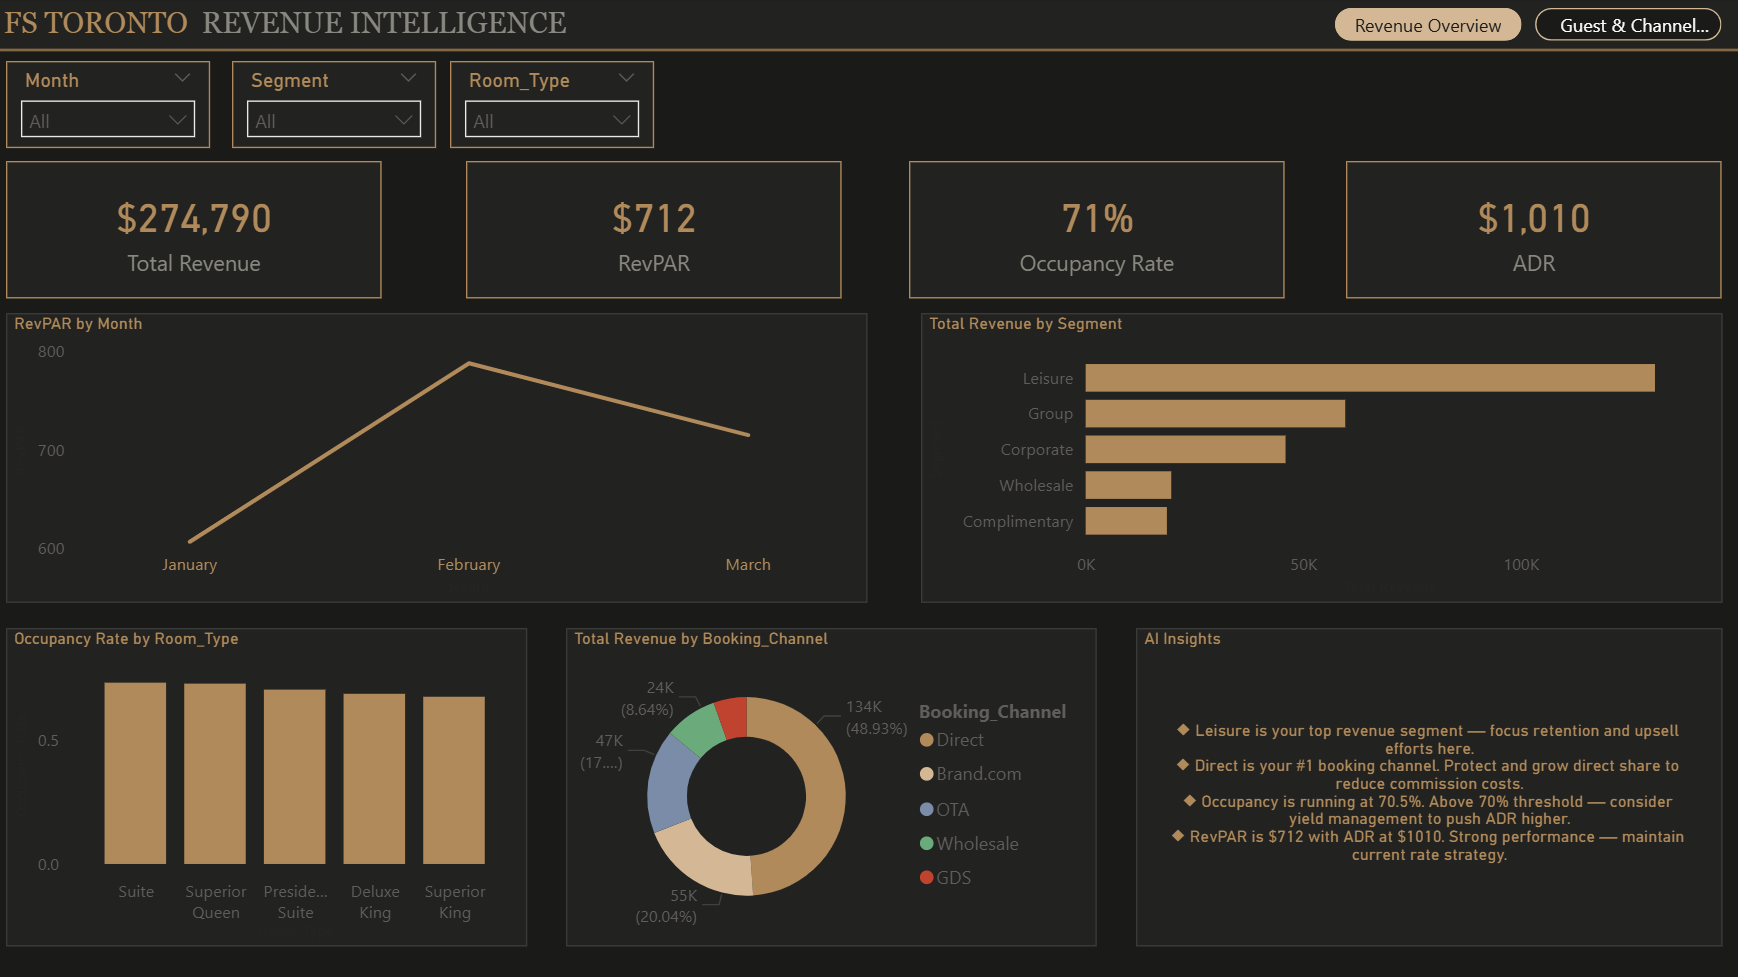

What the dashboard file says about the page in this screenshot:
{"tool":"powerbi","page":{"name":"Revenue Overview","canvas":[1280,720],"ordinal":0},"visuals":[{"type":"card","fields":{"Values":["HotelBookings.Total Revenue"]},"box":[6.6,119,276.3,100.7],"z":0},{"type":"card","fields":{"Values":["HotelBookings.ADR"]},"box":[991.2,119,276.3,100.7],"z":1000},{"type":"card","fields":{"Values":["HotelBookings.Occupancy Rate"]},"box":[670.1,119,276.3,100.7],"z":2000},{"type":"card","fields":{"Values":["HotelBookings.RevPAR"]},"box":[344.6,119,276.3,100.7],"z":3000},{"type":"lineChart","fields":{"Category":["HotelBookings.Check_In_Date.Variation.Date Hierarchy.Month"],"Y":["HotelBookings.RevPAR"]},"box":[6.6,230.7,633.4,213.1],"z":4000},{"type":"clusteredBarChart","fields":{"Category":["HotelBookings.Segment"],"Y":["HotelBookings.Total Revenue"]},"box":[678.9,230.7,588.6,213.1],"z":5000},{"type":"clusteredColumnChart","fields":{"Category":["HotelBookings.Room_Type"],"Y":["HotelBookings.Occupancy Rate"]},"box":[6.6,462.2,382.8,234.4],"z":6000},{"type":"donutChart","fields":{"Category":["HotelBookings.Booking_Channel"],"Y":["HotelBookings.Total Revenue"]},"box":[418.1,462.2,390.2,234.4],"z":7000},{"type":"slicer","fields":{"Values":["HotelBookings.Check_In_Date.Variation.Date Hierarchy.Month"]},"box":[6.6,45.6,149.9,63.9],"z":8000},{"type":"slicer","fields":{"Values":["HotelBookings.Segment"]},"box":[172.7,45.6,149.9,63.9],"z":9000},{"type":"slicer","fields":{"Values":["HotelBookings.Room_Type"]},"box":[332.9,45.6,149.9,63.9],"z":10000},{"type":"textbox","box":[0,0,1280,37.5],"z":11000},{"type":"shape","box":[0,19.1,1280,36.7],"z":12000},{"type":"card","title":"AI Insights","fields":{"Values":["HotelBookings.Insights"]},"box":[836.9,462.2,431.3,233.7],"z":13000},{"type":"pageNavigator","box":[983.1,6.6,285.1,24.2],"z":17003}]}

Visuals, with their boxes in screenshot pixels (x1, y1, x2, y2), scaled from the page's 1280x720 canvas onto the 1738x977 screenshot:
card - HotelBookings.Total Revenue: <box>9,161,384,298</box>
card - HotelBookings.ADR: <box>1346,161,1721,298</box>
card - HotelBookings.Occupancy Rate: <box>910,161,1285,298</box>
card - HotelBookings.RevPAR: <box>468,161,843,298</box>
lineChart - HotelBookings.Check_In_Date.Variation.Date Hierarchy.Month x HotelBookings.RevPAR: <box>9,313,869,602</box>
clusteredBarChart - HotelBookings.Segment x HotelBookings.Total Revenue: <box>922,313,1721,602</box>
clusteredColumnChart - HotelBookings.Room_Type x HotelBookings.Occupancy Rate: <box>9,627,529,945</box>
donutChart - HotelBookings.Booking_Channel x HotelBookings.Total Revenue: <box>568,627,1098,945</box>
slicer - HotelBookings.Check_In_Date.Variation.Date Hierarchy.Month: <box>9,62,212,149</box>
slicer - HotelBookings.Segment: <box>234,62,438,149</box>
slicer - HotelBookings.Room_Type: <box>452,62,656,149</box>
textbox: <box>0,0,1737,51</box>
shape: <box>0,26,1737,76</box>
"AI Insights" card: <box>1136,627,1722,944</box>
pageNavigator: <box>1335,9,1722,42</box>
